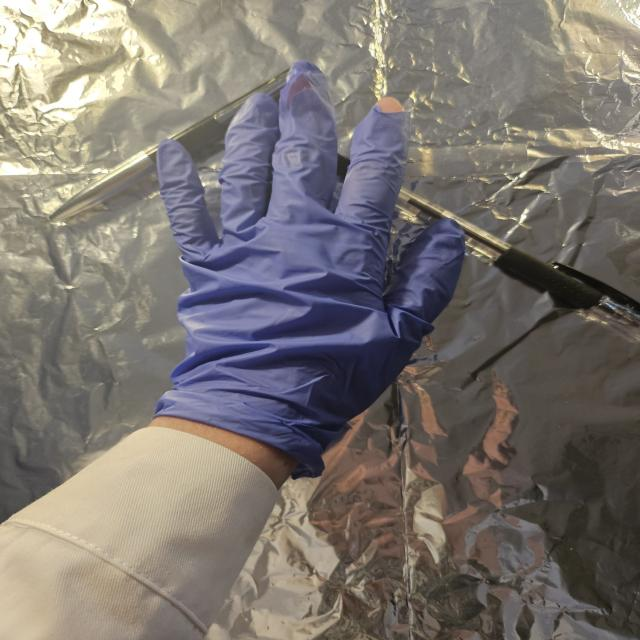gloves_damaged: (152, 58, 465, 477)
